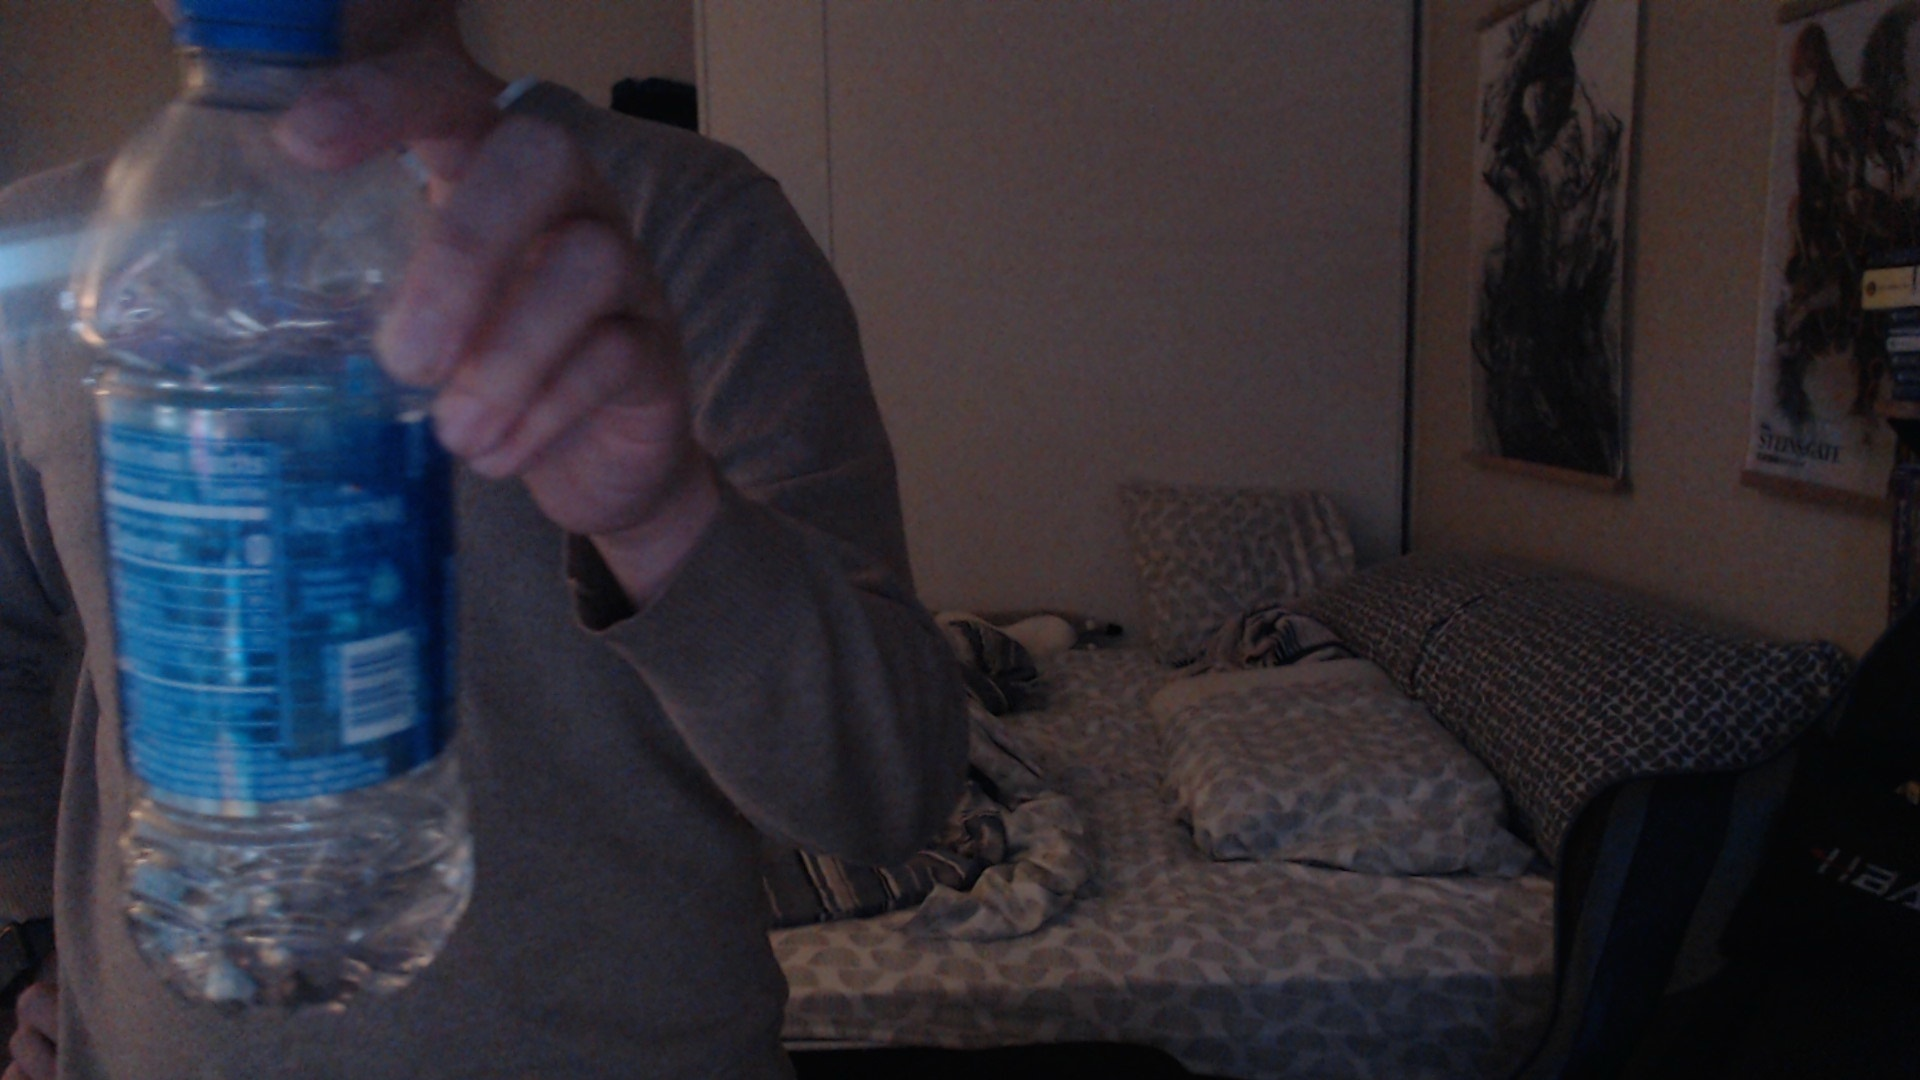bottle: (57, 1, 477, 1022)
